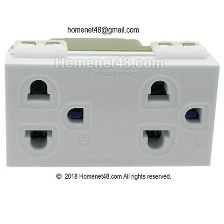three_eye_plug: (3, 35, 221, 170)
